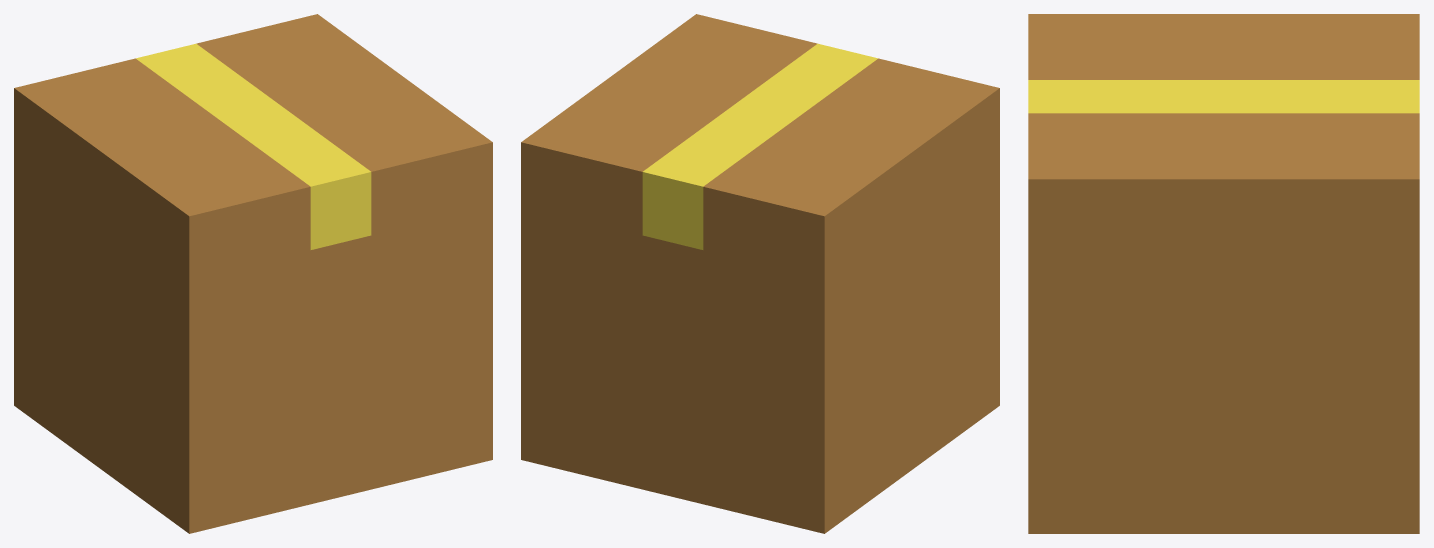
3 views of the same model, side by side, from view 1: azimuth 30°, elevation 25°; view 2: azimuth 150°, elevation 25°; view 3: azimuth 270°, elevation 25° (orthographic). The views are drawn at different scales.
Visible parts, largest first — view 1: Box001; view 2: Box001; view 3: Box001.
Boxes of the visible parts, <box> form: Box001: <box>14,14,492,533</box>; Box001: <box>521,14,999,533</box>; Box001: <box>1028,14,1419,533</box>.
Size of the model in its own units: 20 by 20 by 20.
